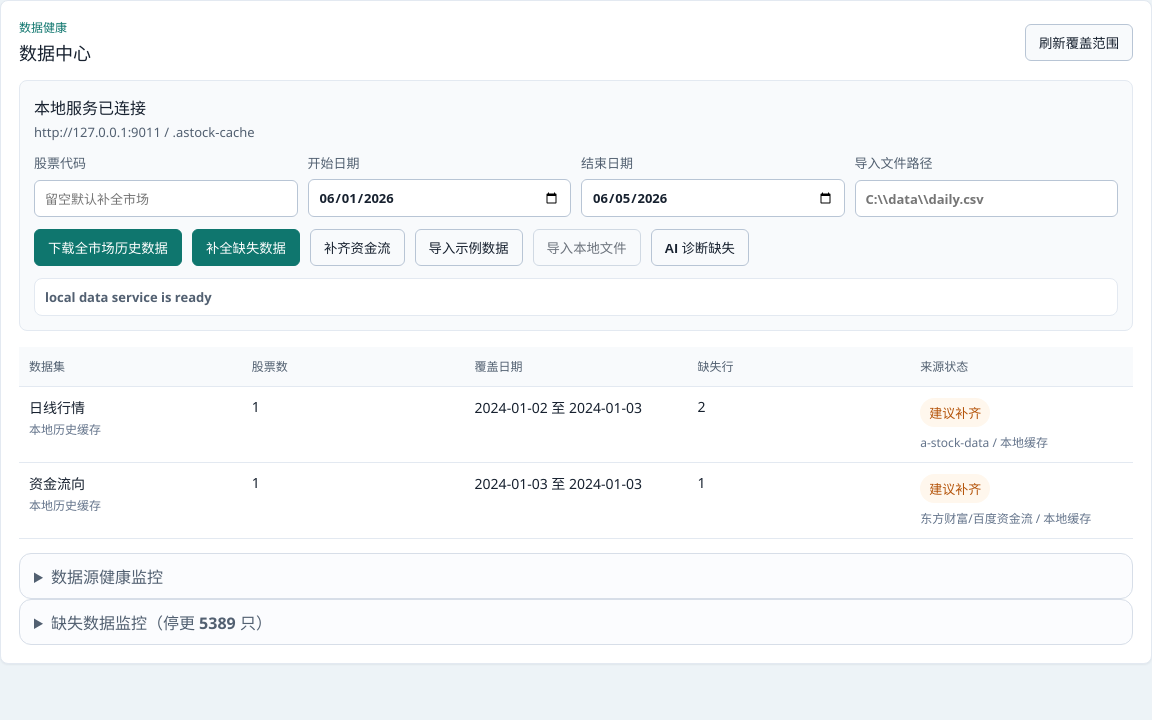
Test: DataCenter › starts capital-flow backfill without typed symbols and refreshes coverage after the operation
Expected: the text "http://127.0.0.1:9011 / .astock-cache" is shown, 34,123 -> 254,141
Expected: the field labelled "股票代码" is empty, 34,180 -> 298,217
Click the button "补齐资金流" at (357, 248), box 310,229 -> 404,266
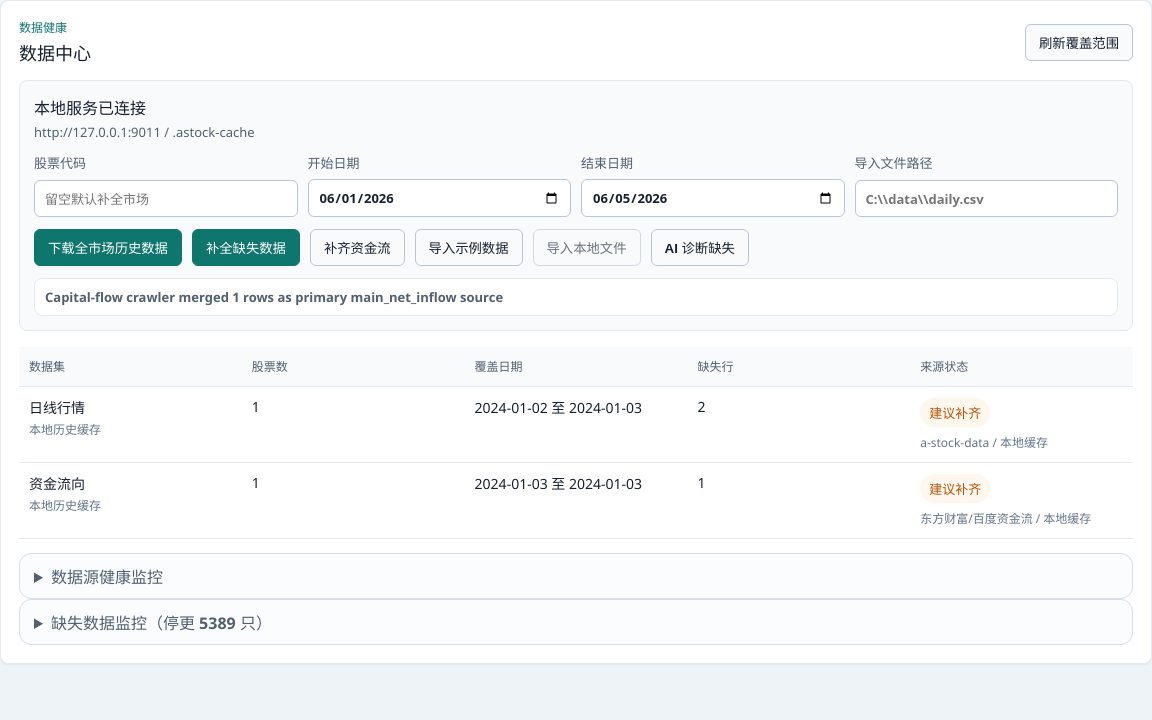
Now the text "Capital-flow crawler merged 1 rows as primary main_net_inflow source" is shown, box 34,278 -> 1118,316
